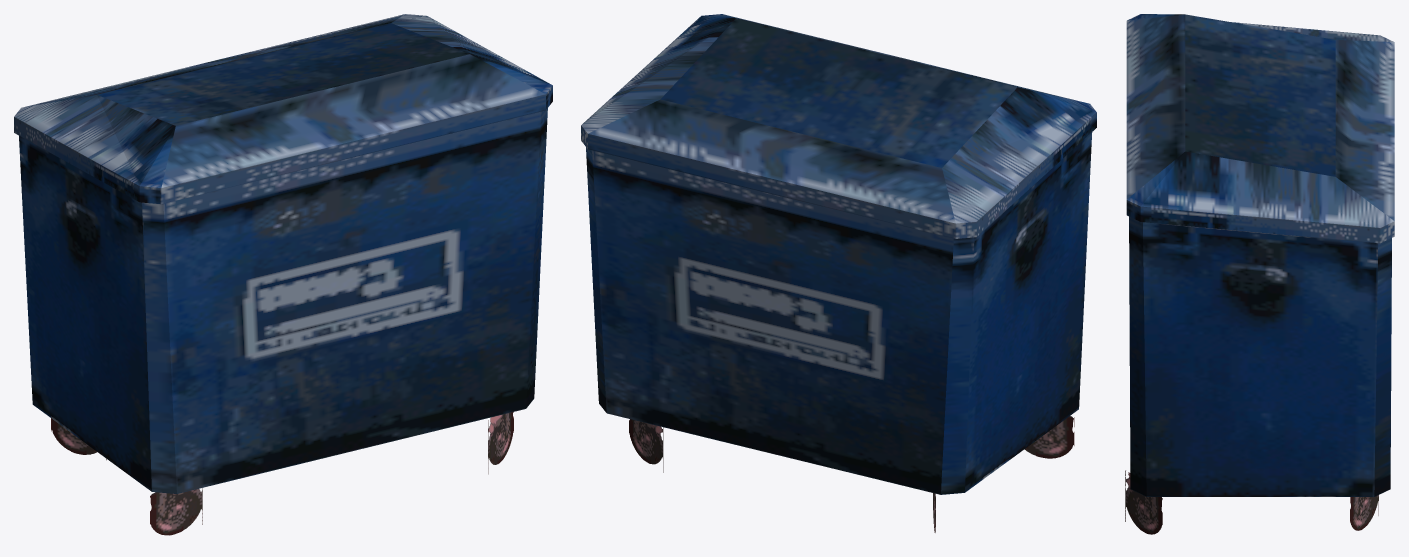
File: binnt04_la.obj
The picture shows the model from 3 angles, left to right: view 1: azimuth 30°, elevation 25°; view 2: azimuth 150°, elevation 25°; view 3: azimuth 270°, elevation 25°; orthographic projection. The views are drawn at different scales.
Parts seen in each view (by area): view 1: BinNt04_LA; view 2: BinNt04_LA; view 3: BinNt04_LA.
Boxes of the visible parts, x1,y1,x2,y2 form: BinNt04_LA: (14, 14, 552, 535); BinNt04_LA: (581, 14, 1096, 532); BinNt04_LA: (1125, 14, 1394, 534).
Bounding box in the file's own units: 2.46 × 2.24 × 1.45.
2 materials, 2 textured.
